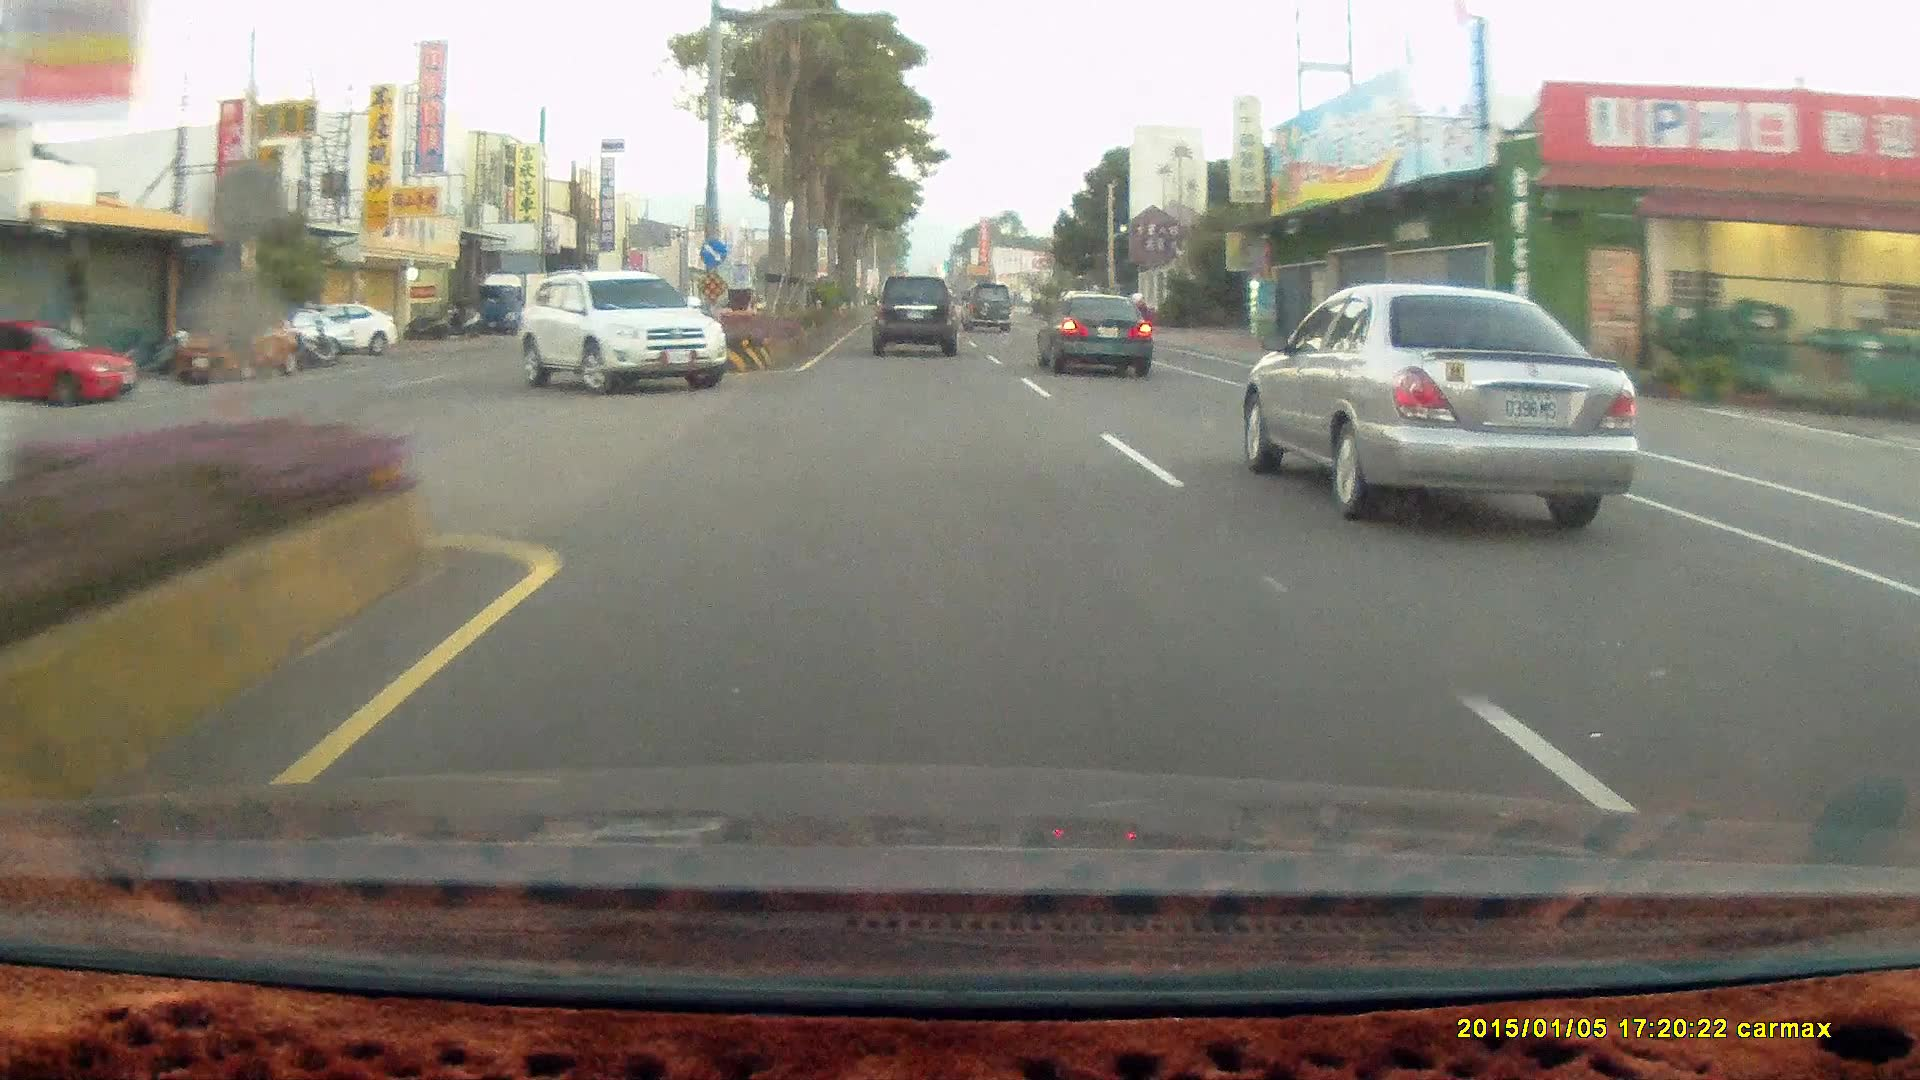vehicle: (1236, 276, 1636, 531), (509, 268, 731, 392), (510, 268, 729, 390), (1, 323, 135, 409), (169, 302, 301, 382), (169, 305, 299, 384), (1035, 287, 1153, 375), (1040, 295, 1155, 378), (872, 277, 967, 361), (872, 274, 956, 352), (285, 302, 401, 357), (282, 298, 398, 352), (957, 281, 1015, 335), (957, 281, 1015, 334)
